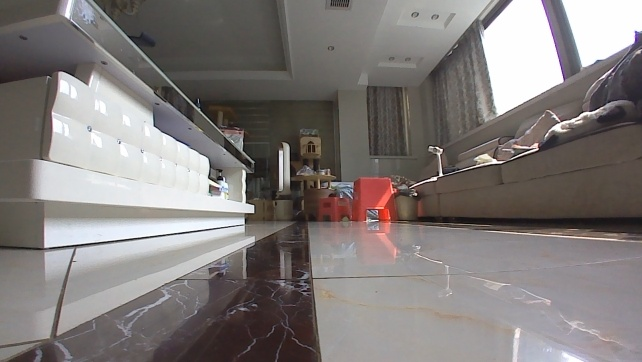sofa: (407, 50, 641, 222)
tea_table: (0, 0, 259, 255)
